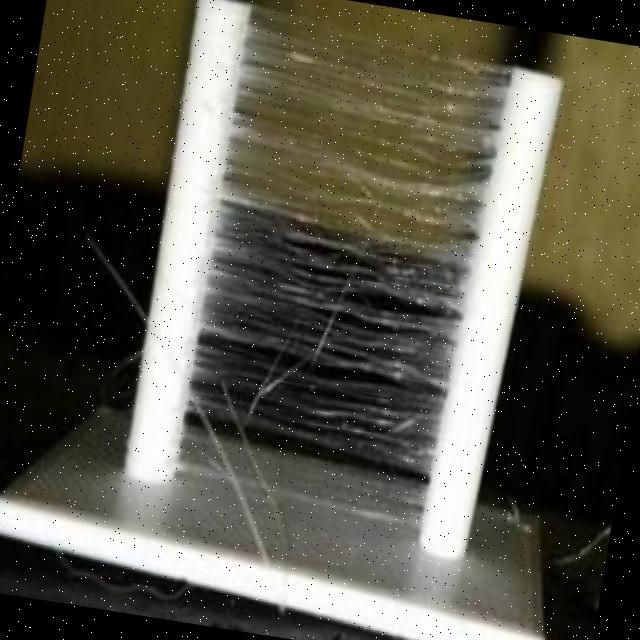stringing: (175, 9, 513, 531)
